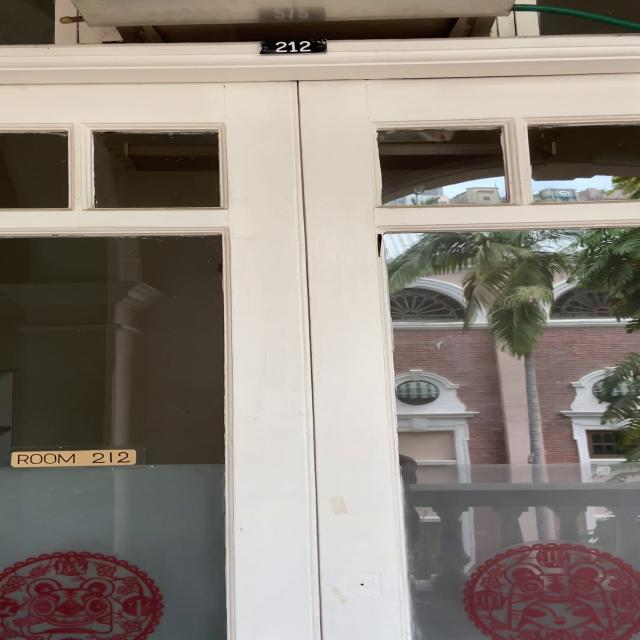room212: (253, 38, 332, 55)
